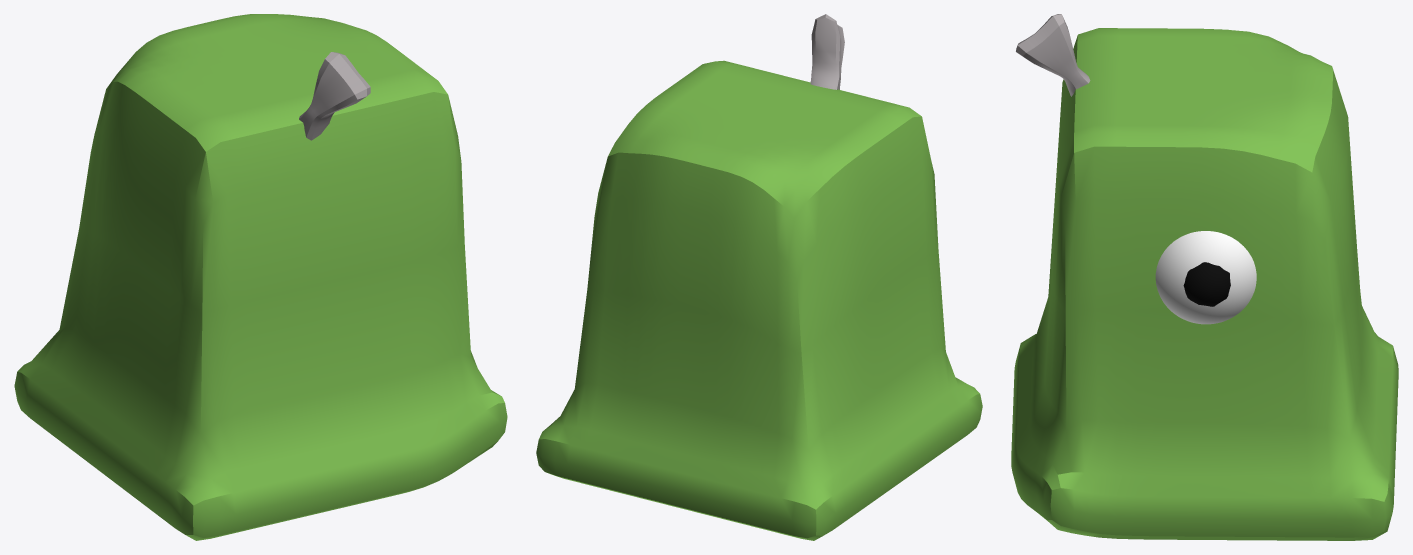
File: slime3.fbx
The picture shows the model from 3 angles, left to right: view 1: azimuth 30°, elevation 25°; view 2: azimuth 150°, elevation 25°; view 3: azimuth 270°, elevation 25°; orthographic projection. The views are drawn at different scales.
Parts seen in each view (by area): view 1: Icosphere; view 2: Icosphere; view 3: Icosphere.
Boxes of the visible parts, <box> form: Icosphere: <box>14,14,507,540</box>; Icosphere: <box>536,14,982,540</box>; Icosphere: <box>1011,14,1398,540</box>.
Bounding box in the file's own units: 269 × 340 × 265.
